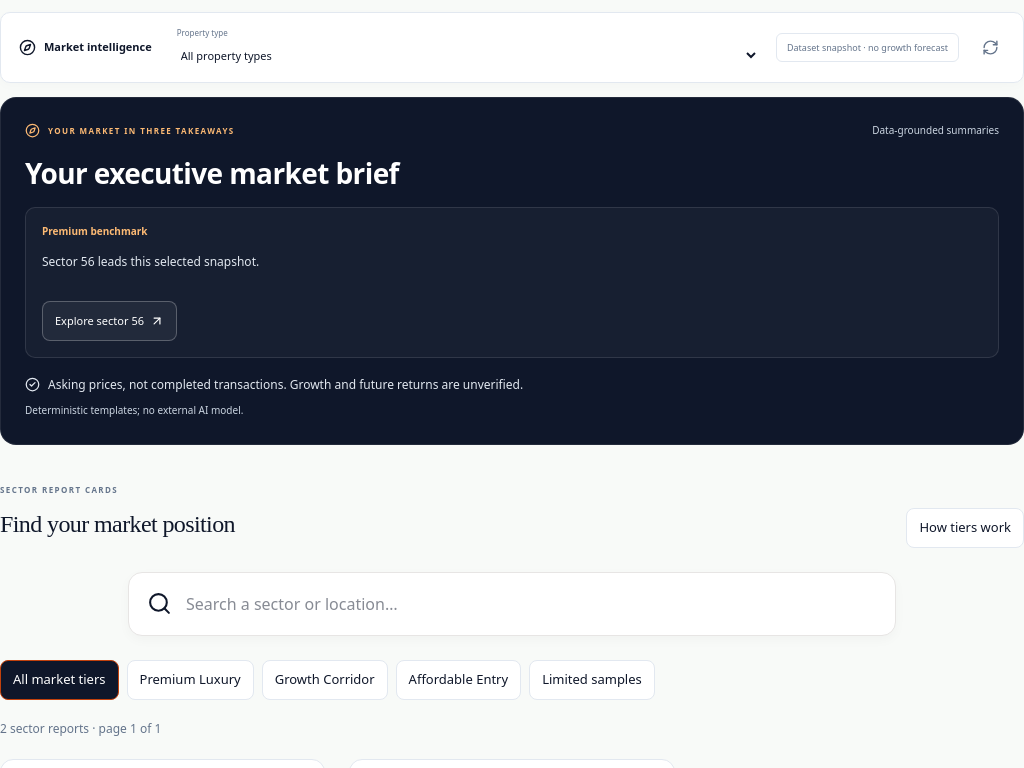
Test: brief and methodology controls open overlays without hash navigation or eager valuation requests
The image size is (1024, 768).
Expected: the heading "Find your market position" is shown, [0,506,235,542]
Click the button "How tiers work": (965, 528) [906,508,1023,548]
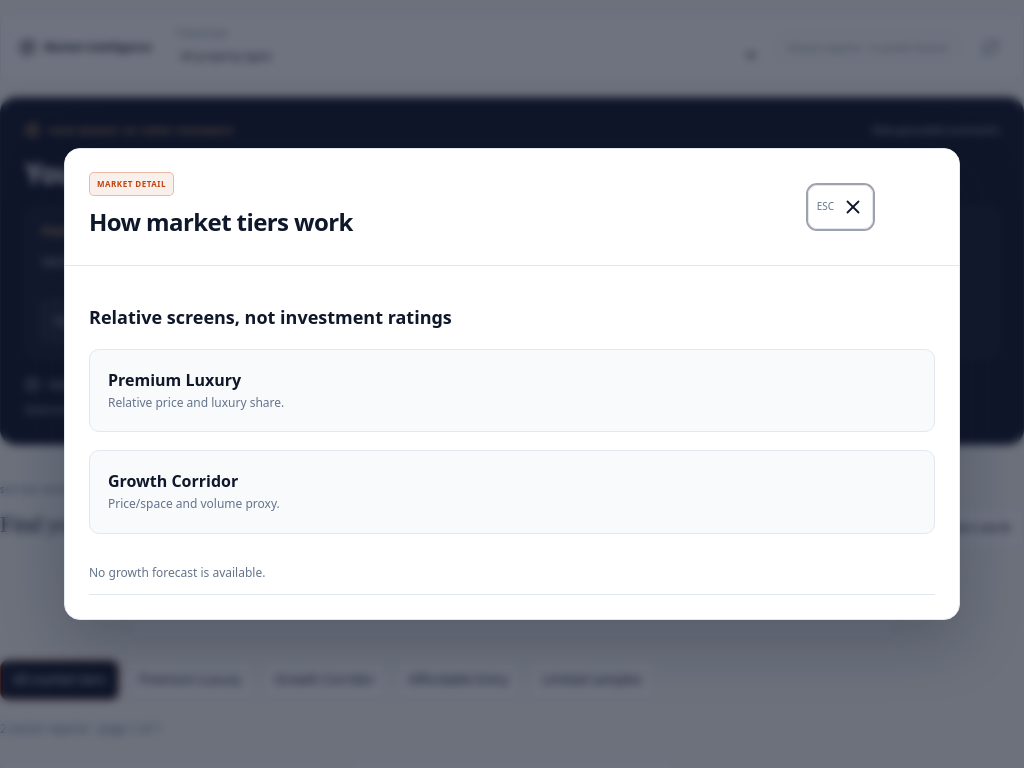
Expected: the dialog "How market tiers work" is shown, [64,148,960,620]
Click the button with aria-label "Close detail view": (840, 207) [808,185,873,229]
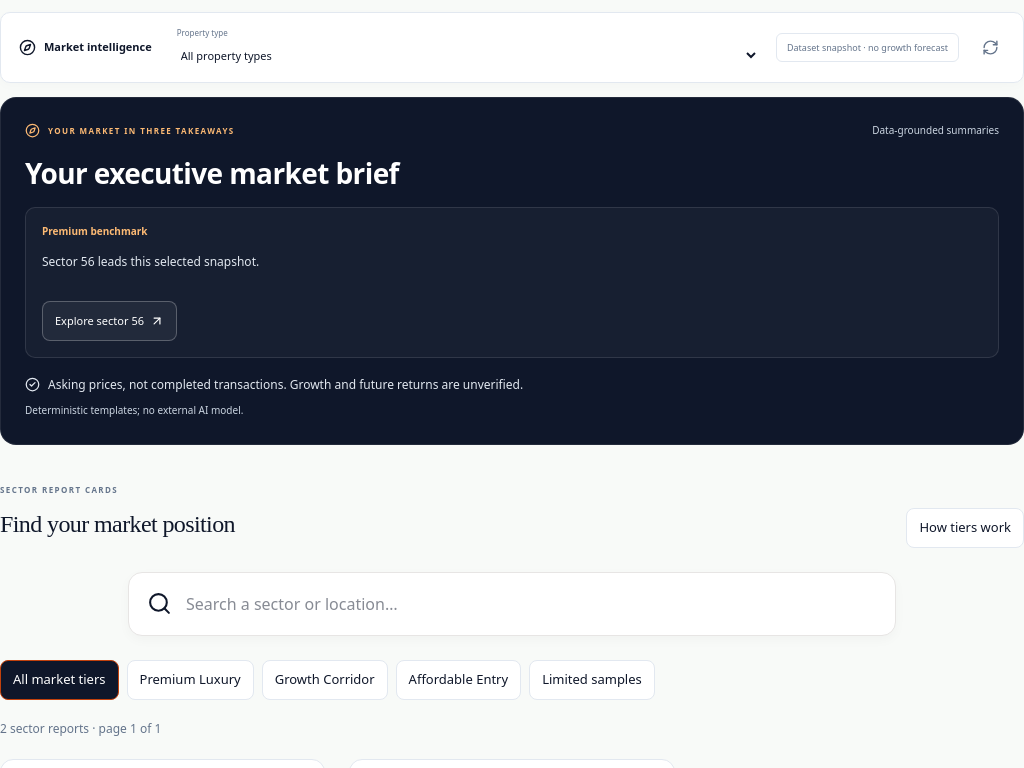
Click the button "Explore sector 56": (110, 321) [42,301,177,341]
(page scrolled)
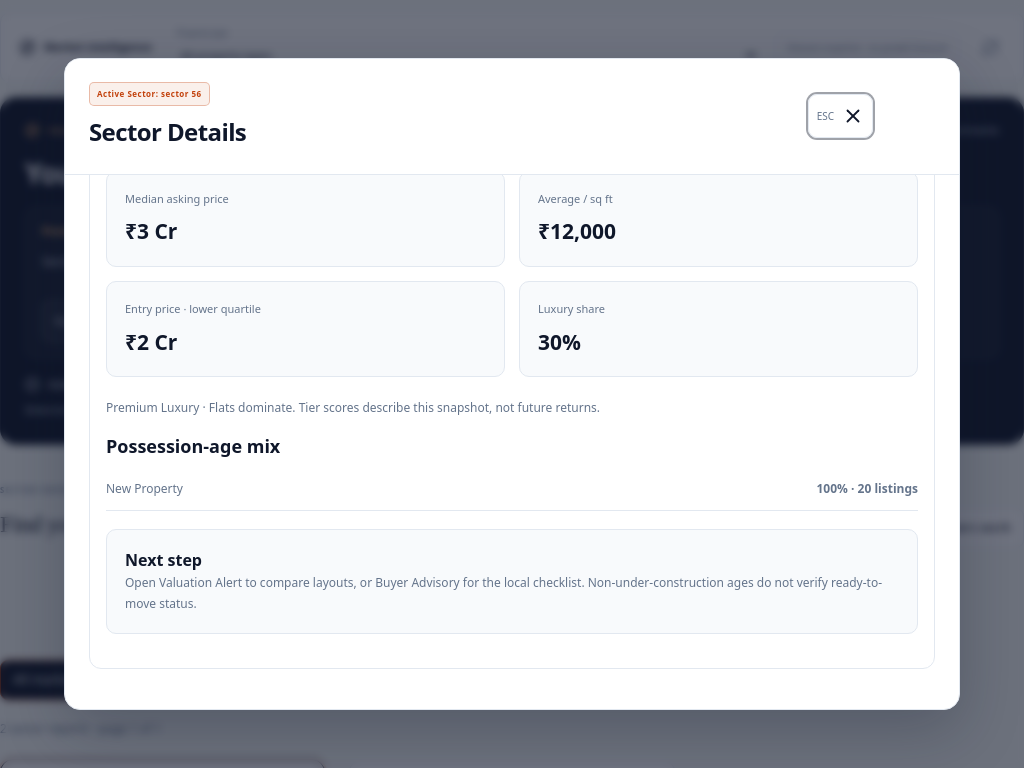
Expected: the heading "Possession-age mix" is shown, [106,434,280,458]
